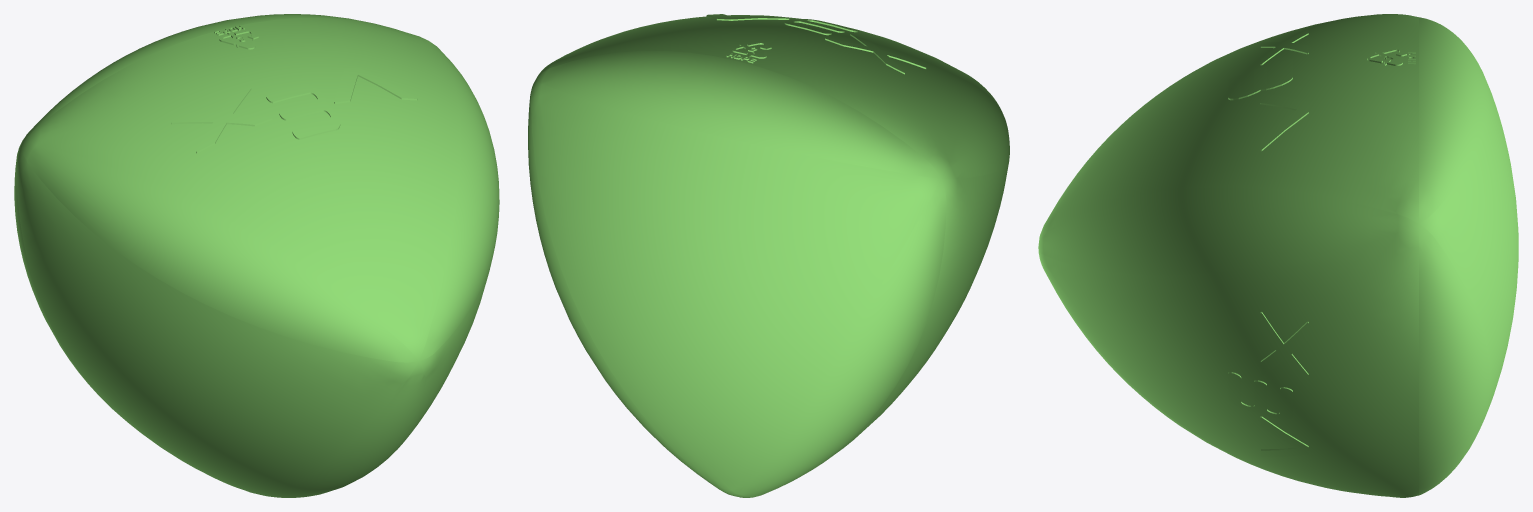
The model's file is Triball-v5.glb.
3 renders of one model, left to right at view 1: azimuth 30°, elevation 25°; view 2: azimuth 150°, elevation 25°; view 3: azimuth 270°, elevation 25°, orthographic.
Visible parts, largest first — view 1: 276-8354-001 Rev5_12-8 Update; view 2: 276-8354-001 Rev5_12-8 Update; view 3: 276-8354-001 Rev5_12-8 Update.
Boxes of the visible parts, left/top/right/bottom form: 276-8354-001 Rev5_12-8 Update: left=14, top=14, right=499, bottom=497; 276-8354-001 Rev5_12-8 Update: left=528, top=14, right=1009, bottom=497; 276-8354-001 Rev5_12-8 Update: left=1038, top=14, right=1518, bottom=497.
Bounding box in the file's own units: 6.79 × 6.76 × 6.73.
